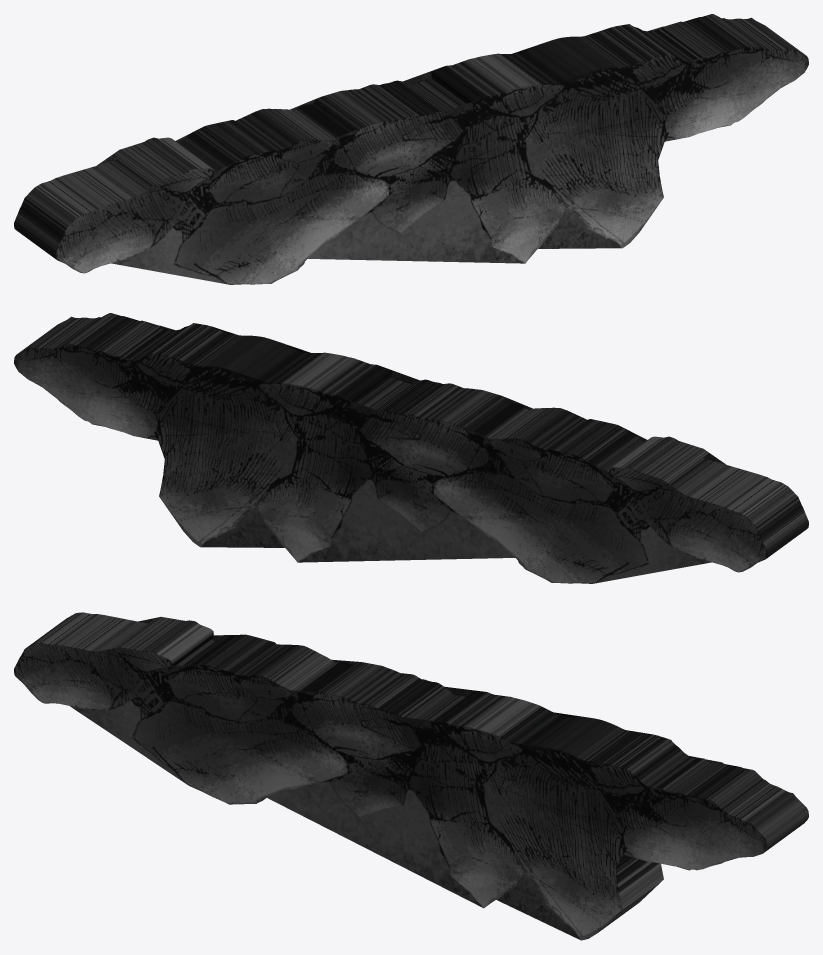
Rendered from Rock01.fbx.
3 renders of one model, top to bottom at view 1: azimuth 30°, elevation 25°; view 2: azimuth 150°, elevation 25°; view 3: azimuth 330°, elevation 25°, orthographic.
Visible parts, largest first — view 1: rocks; view 2: rocks; view 3: rocks.
Part boxes in pixels (x1,y1,x2,y2): rocks: (14, 14, 808, 284); rocks: (14, 313, 808, 583); rocks: (14, 612, 808, 940).
Bounding box in the file's own units: 115 × 27.22 × 11.
Materials: 1 (1 with a texture image).
